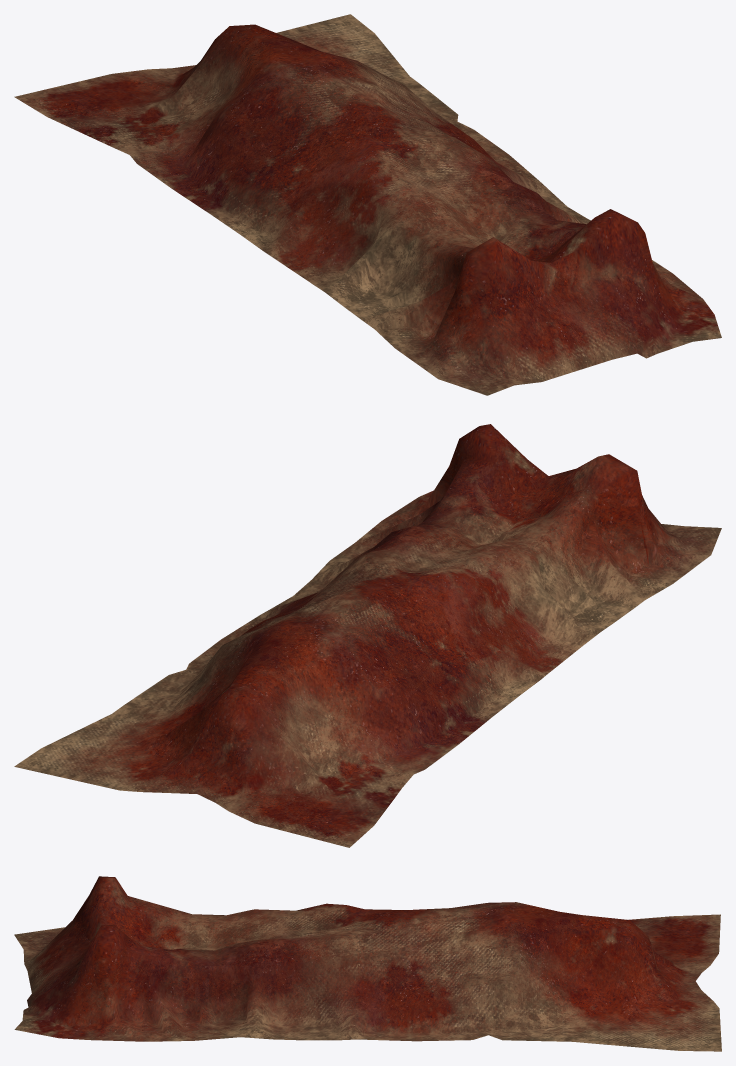
File: corpse.glb
3 renders of one model, top to bottom at view 1: azimuth 30°, elevation 25°; view 2: azimuth 150°, elevation 25°; view 3: azimuth 270°, elevation 25°, orthographic. The views are drawn at different scales.
Visible parts, largest first — view 1: muerto; view 2: muerto; view 3: muerto.
Boxes of the visible parts, x1,y1,x2,y2 form: muerto: (14,14,721,395); muerto: (14,424,721,847); muerto: (14,876,721,1051).
Bounding box in the file's own units: 0.9659 × 0.3014 × 2.11.
1 material, 1 textured.
